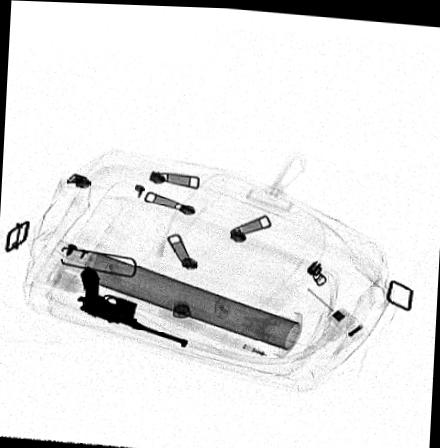Gun: (74, 266, 189, 347)
